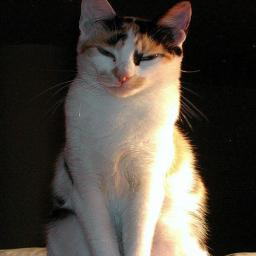catnose: (114, 67, 133, 83)
